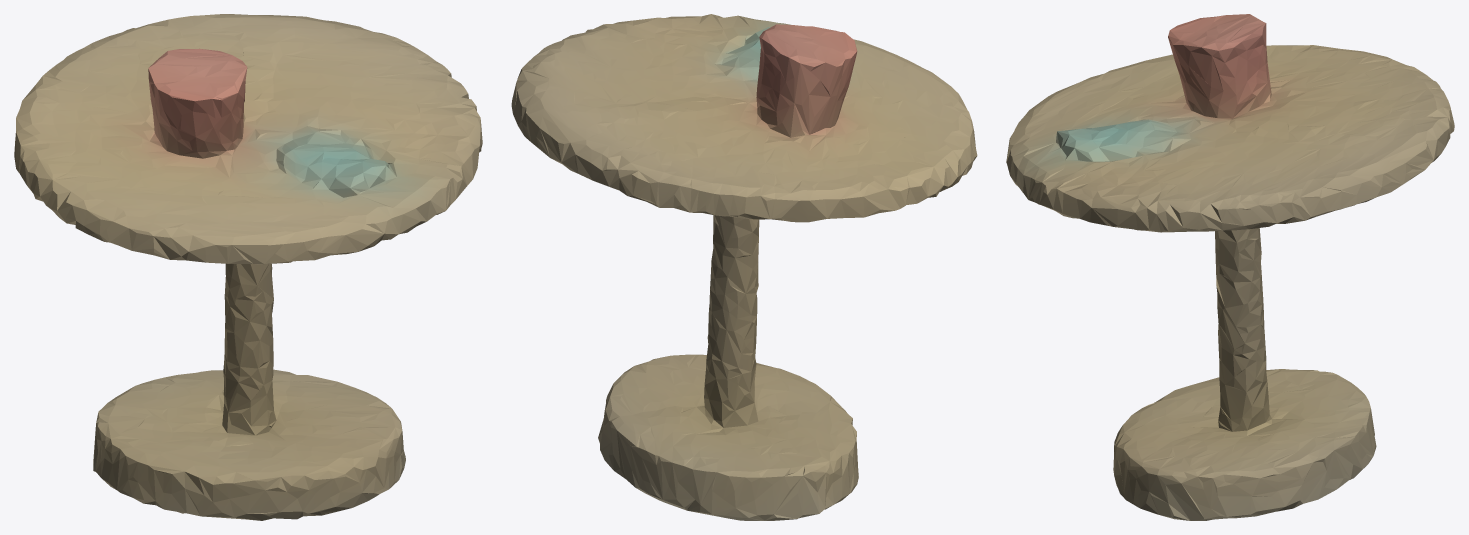
File: cafe-4.glb
3 renders of one model, left to right at view 1: azimuth 30°, elevation 25°; view 2: azimuth 150°, elevation 25°; view 3: azimuth 270°, elevation 25°, orthographic. The views are drawn at different scales.
Parts seen in each view (by area): view 1: geometry_0; view 2: geometry_0; view 3: geometry_0.
Part boxes in pixels (x1=…): geometry_0: x1=14, y1=14, x2=482, y2=520; geometry_0: x1=511, y1=14, x2=977, y2=520; geometry_0: x1=1006, y1=14, x2=1454, y2=520.
Bounding box in the file's own units: 1.01 × 1.03 × 1.01.
